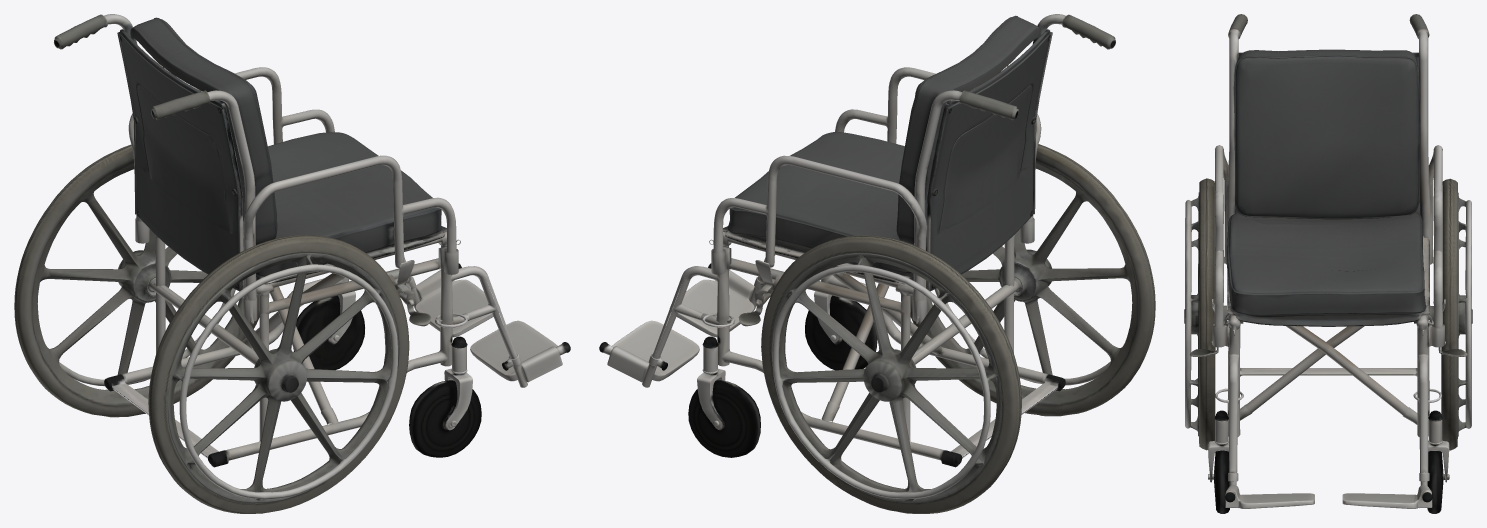
3 renders of one model, left to right at view 1: azimuth 30°, elevation 25°; view 2: azimuth 150°, elevation 25°; view 3: azimuth 270°, elevation 25°, orthographic. The views are drawn at different scales.
Visible parts, largest first — view 1: tripo_node_9bbad82d-cf62-4c77-846b-5b9be2c78ed7; view 2: tripo_node_9bbad82d-cf62-4c77-846b-5b9be2c78ed7; view 3: tripo_node_9bbad82d-cf62-4c77-846b-5b9be2c78ed7.
Boxes of the visible parts, bbox=[...] form: tripo_node_9bbad82d-cf62-4c77-846b-5b9be2c78ed7: bbox=[14, 14, 570, 513]; tripo_node_9bbad82d-cf62-4c77-846b-5b9be2c78ed7: bbox=[599, 14, 1155, 513]; tripo_node_9bbad82d-cf62-4c77-846b-5b9be2c78ed7: bbox=[1184, 14, 1472, 513].
Size of the model in its own units: 0.9995 by 0.9321 by 0.6353.
Materials: 1 (1 with a texture image).
